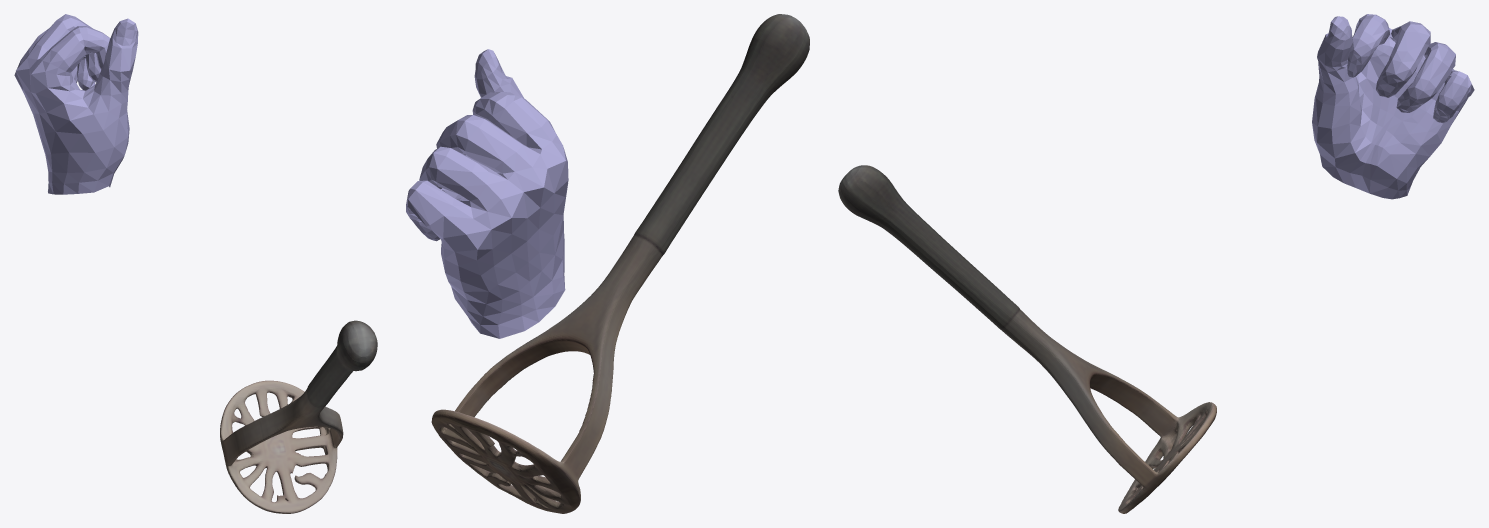
File: frame_0057_source_000057_hand_object.glb
3 views of the same model, side by side, from view 1: azimuth 30°, elevation 25°; view 2: azimuth 150°, elevation 25°; view 3: azimuth 270°, elevation 25° (orthographic). The views are drawn at different scales.
Visible parts, largest first — view 1: world; view 2: world; view 3: world.
Boxes of the visible parts, x1,y1,x2,y2 form: world: (14,14,377,513); world: (406,14,809,513); world: (838,14,1474,513).
Bounding box in the file's own units: 0.1391 × 0.2934 × 0.3686.
